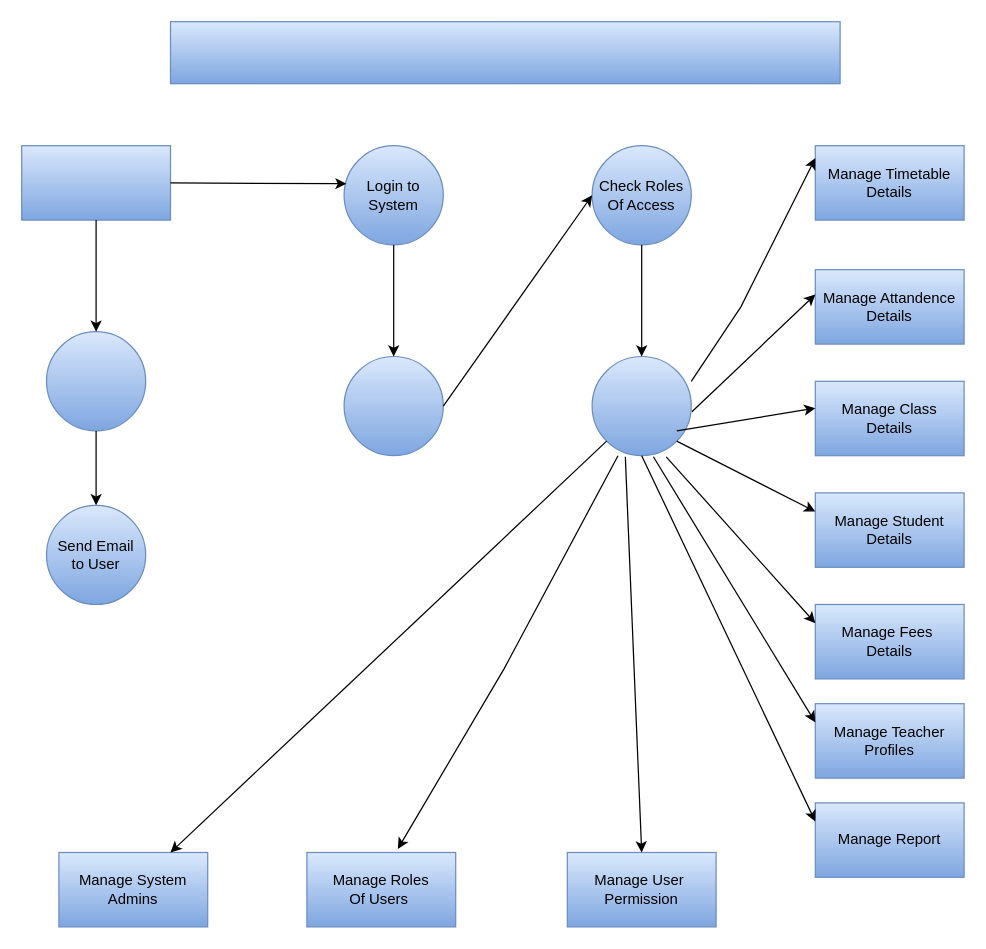
Some shapes in this 986 by 949 pixel diagram are drawn without their labels. The shapes that lost their labels are listed below. From the top down, each one's centre as x and y in pixels, then its label:
(x=504, y=52): Student Information System
(x=95, y=182): Admin
(x=95, y=380): Forget Password
(x=393, y=405): Check credentials
(x=641, y=405): Manage Modules
